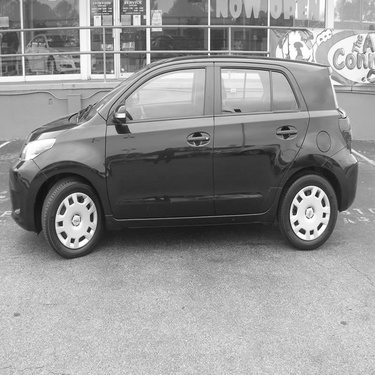car: (15, 51, 363, 259)
